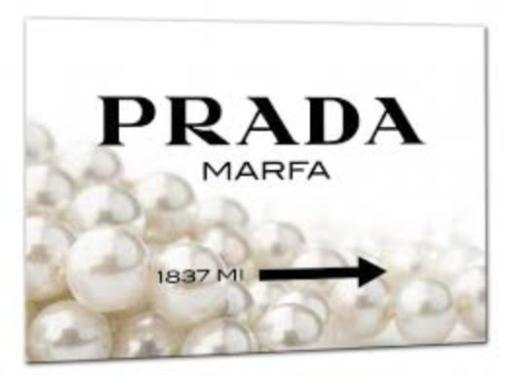PRADA: (97, 87, 429, 154)
